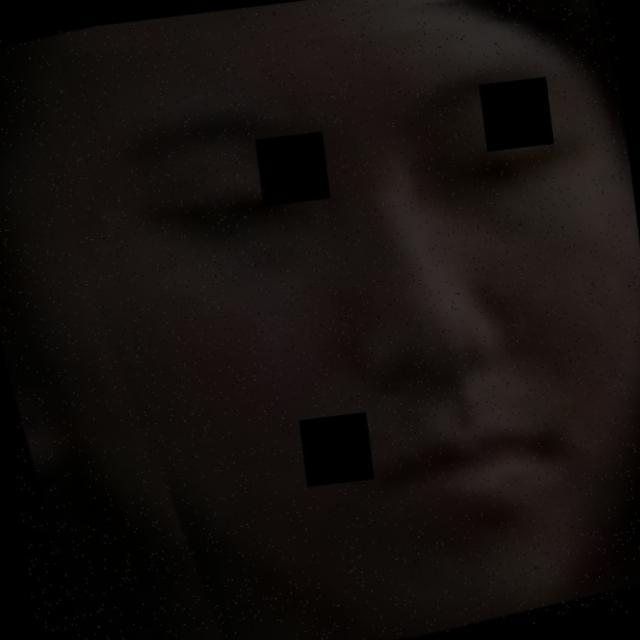Sad: (51, 44, 640, 553)
